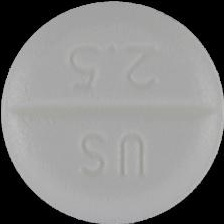0245-0211: (0, 0, 224, 224)
